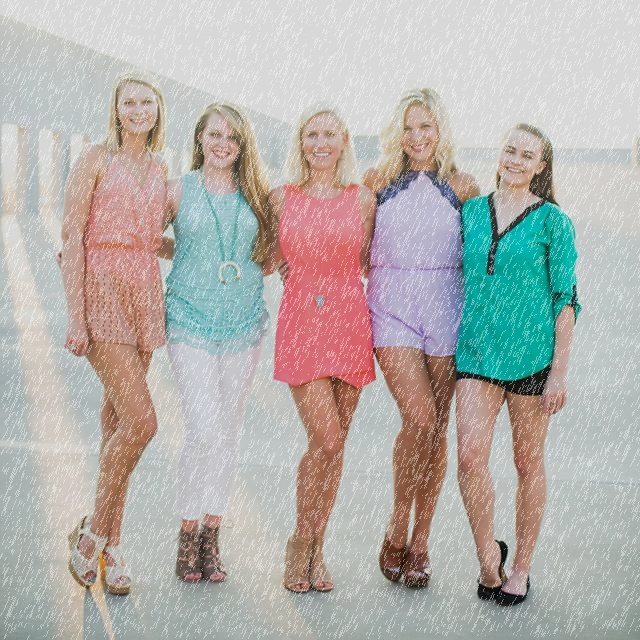pessoa: (272, 86, 483, 584), (50, 68, 173, 598), (454, 121, 584, 609), (258, 99, 380, 598), (158, 101, 272, 583)
